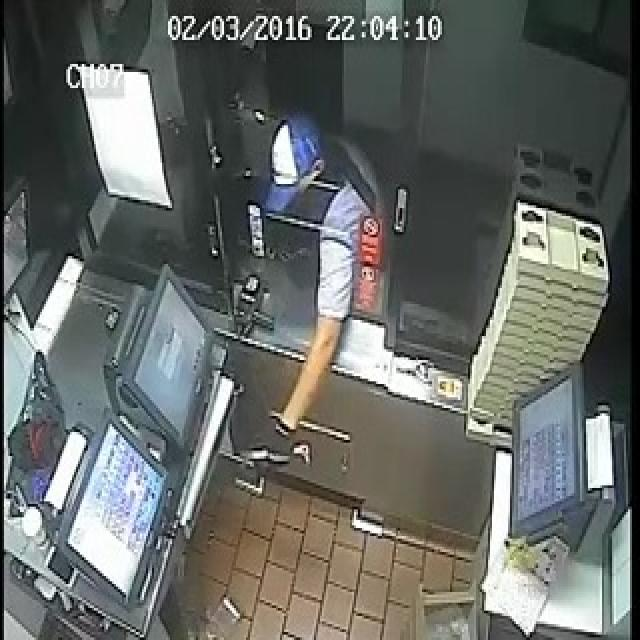thief: (250, 128, 372, 308)
